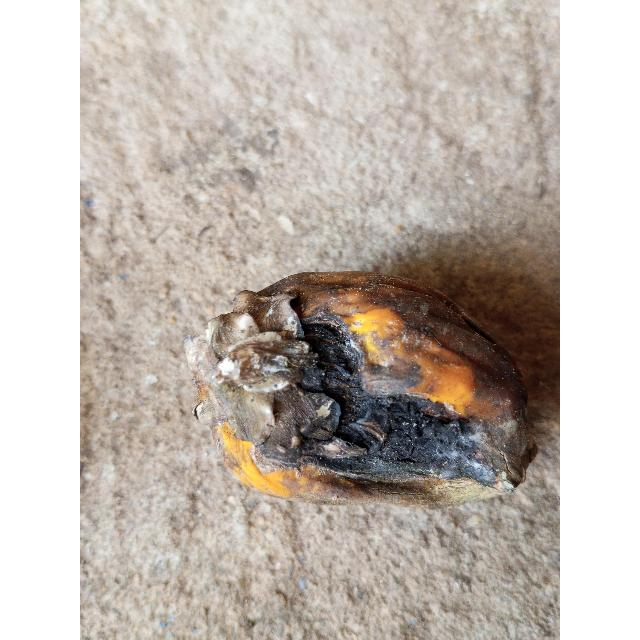damaged: (186, 241, 560, 508)
